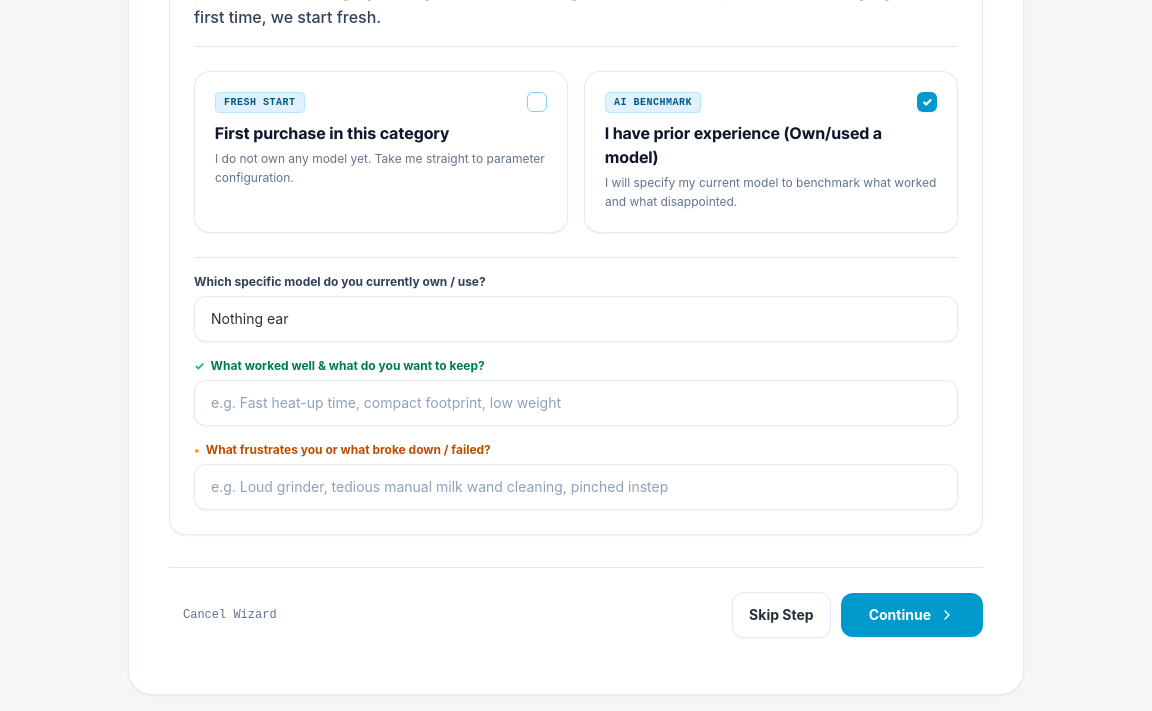
Test: Wizard Edit Mode: Answer Retention & Non-Destructive Navigation › 1. Initializes with existing targetValues so chips and inputs are pre-selected in questionnaire
The image size is (1152, 711).
(page scrolled)
Expected: the field showing "Nothing ear" is shown, [194,296,958,342]
# Click "Skip to Parameters" / "Přeskočit na parametry"
Click the button "Skip Step" at {"x": 781, "y": 614}, box [732,592,831,638]
(page scrolled)
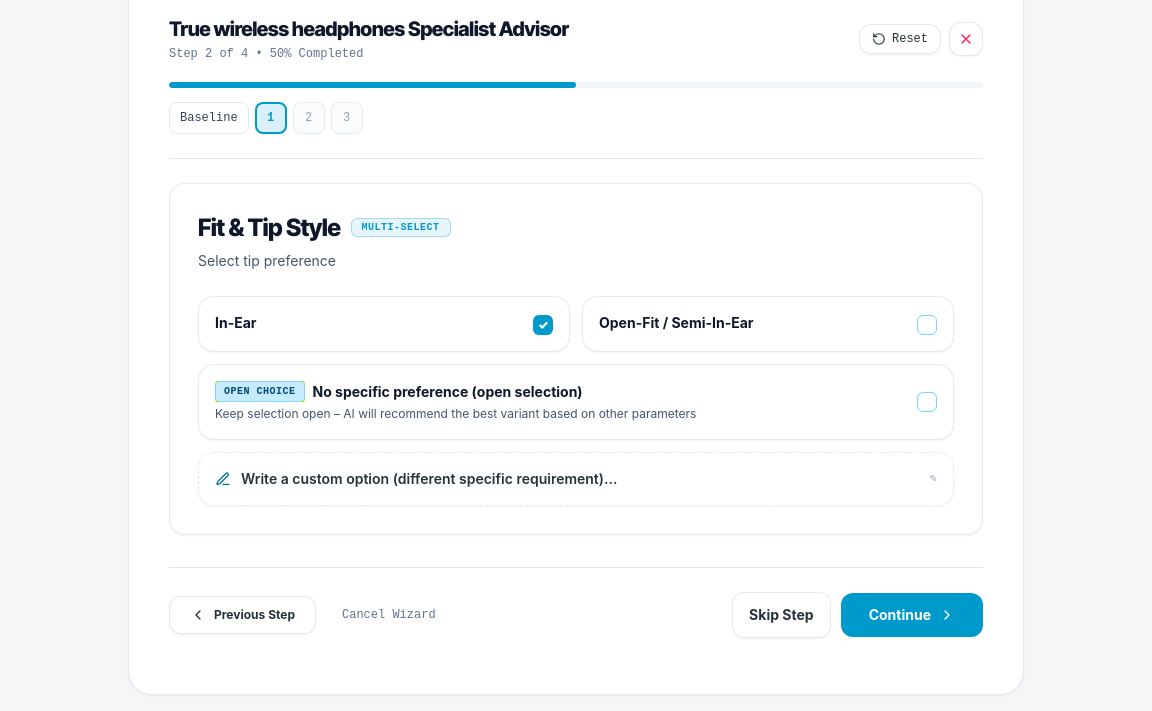
Result: the text "Fit & Tip Style" is shown at [198,212,340,244]
Result: the text "✓" is shown at [538,319,548,331]
